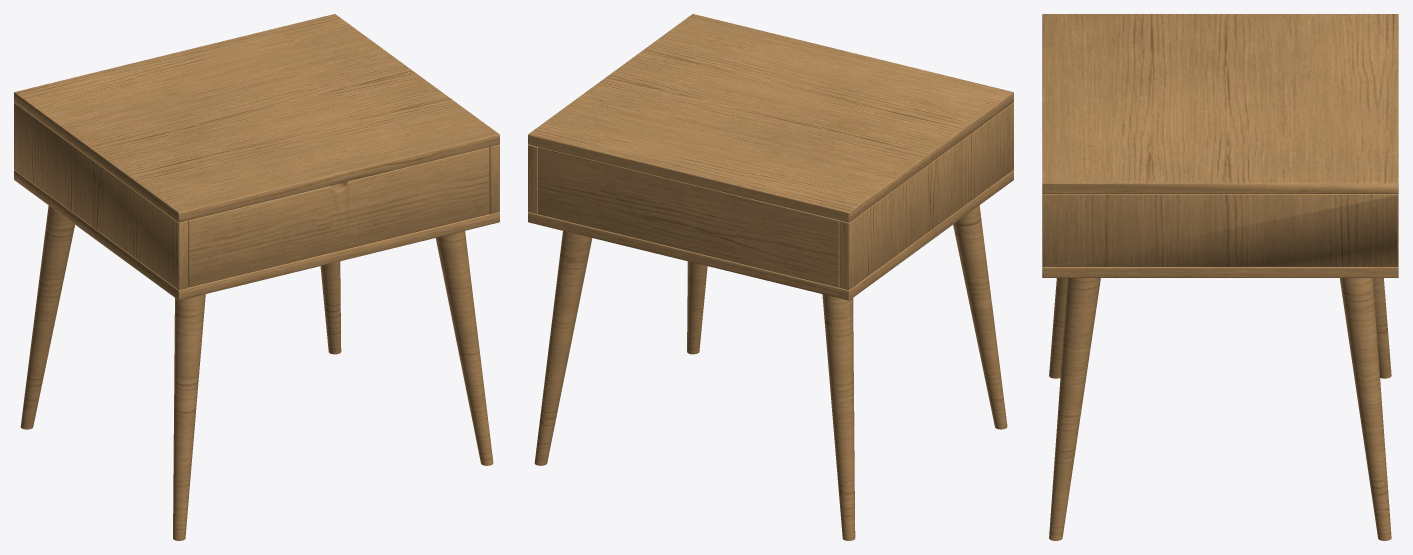
The picture shows the model from 3 angles, left to right: view 1: azimuth 30°, elevation 25°; view 2: azimuth 150°, elevation 25°; view 3: azimuth 270°, elevation 25°; orthographic projection. The views are drawn at different scales.
Visible parts, largest first — view 1: Object_97; view 2: Object_97; view 3: Object_97.
Boxes of the visible parts, x1=… form: Object_97: x1=14, y1=14, x2=499, y2=540; Object_97: x1=528, y1=14, x2=1013, y2=540; Object_97: x1=1042, y1=14, x2=1398, y2=540.
Bounding box in the file's own units: 0.4824 × 0.4759 × 0.429.
1 material, 1 textured.
